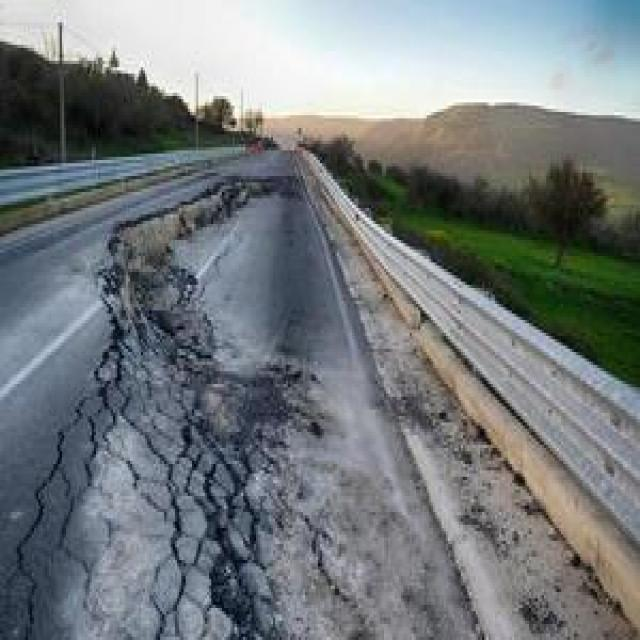road collapse: (5, 109, 640, 640)
